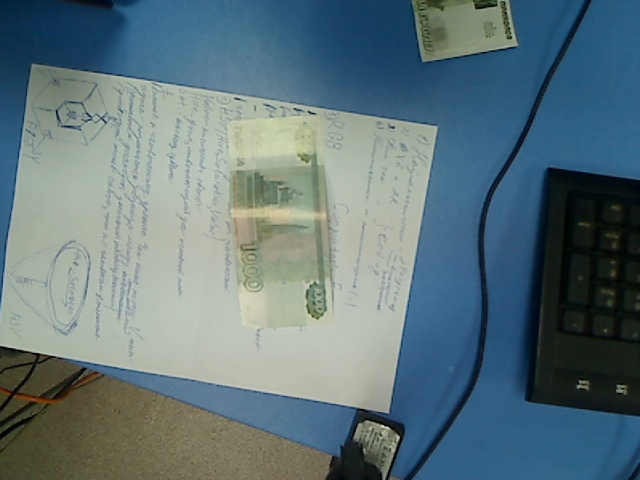banknotes: (227, 116, 335, 329)
